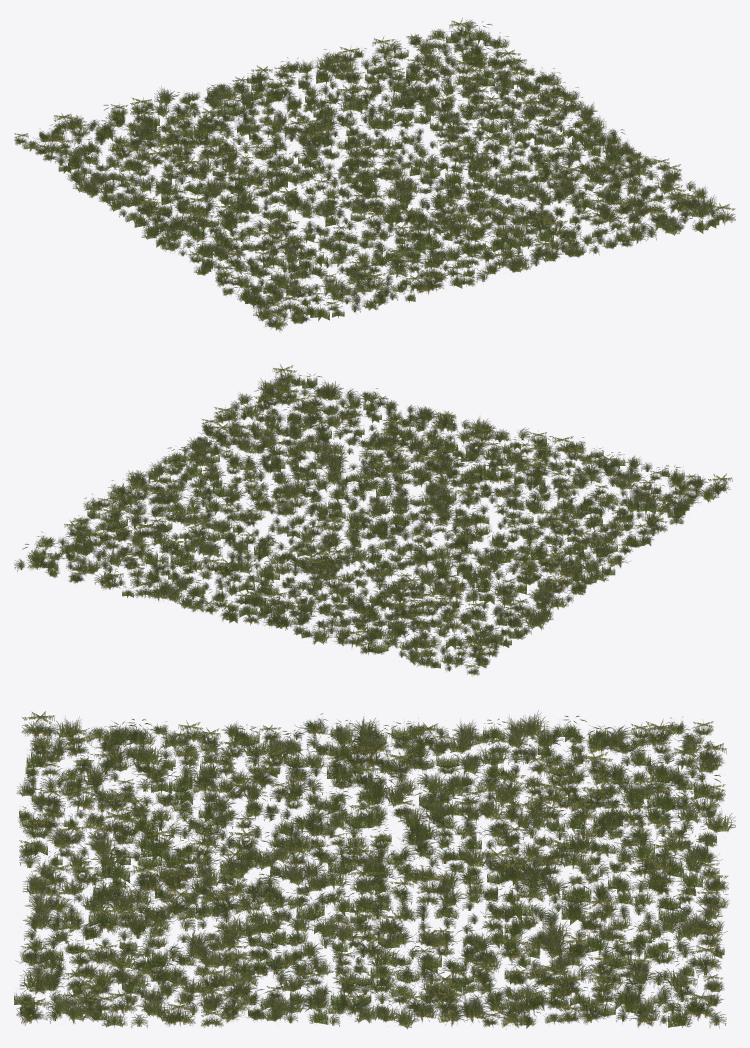
The model's file is coastal-meadow.glb.
3 views of the same model, one above another, from view 1: azimuth 30°, elevation 25°; view 2: azimuth 150°, elevation 25°; view 3: azimuth 270°, elevation 25° (orthographic). The views are drawn at different scales.
Visible parts, largest first — view 1: coastal-meadow-lod0; view 2: coastal-meadow-lod0; view 3: coastal-meadow-lod0.
Part boxes in pixels (bbox=[...]): coastal-meadow-lod0: bbox=[14, 18, 735, 331]; coastal-meadow-lod0: bbox=[14, 364, 732, 675]; coastal-meadow-lod0: bbox=[14, 710, 735, 1029].
Size of what is drawn, in the model's own units: 4.17 by 0.13 by 4.15.
1 material, 1 textured.
